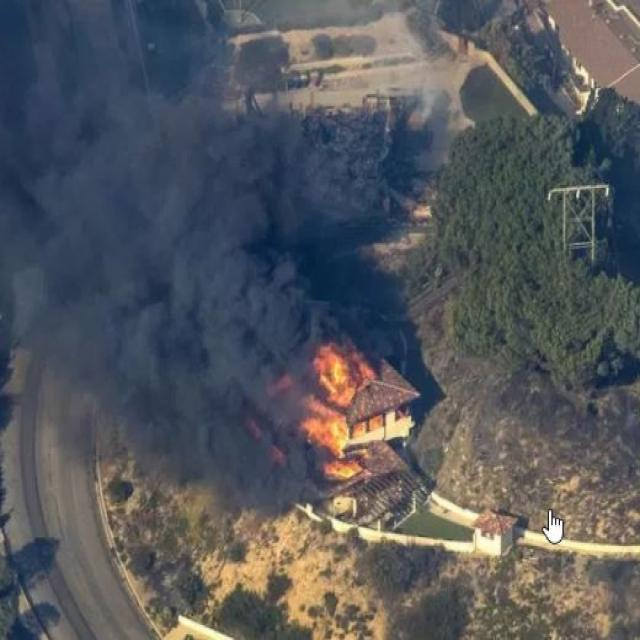Fire: (284, 352, 384, 476)
Smoke: (30, 57, 393, 488)
